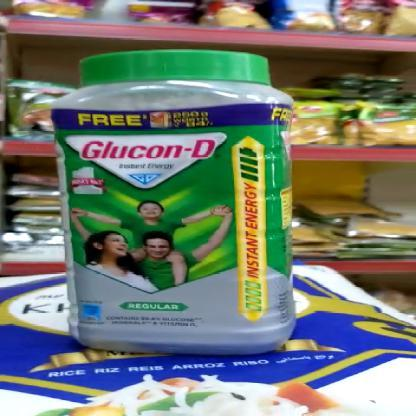Glucon D Regular 2-KG: (52, 51, 290, 353)
